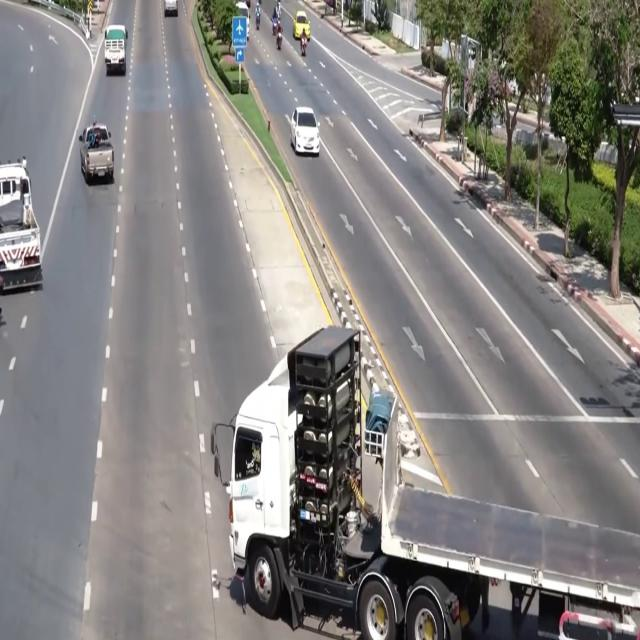car: (290, 107, 320, 156), (236, 0, 250, 39), (293, 10, 310, 39)
scooty: (301, 32, 306, 56), (276, 32, 282, 50), (272, 17, 276, 35), (256, 13, 260, 30)
truck: (210, 327, 639, 639), (0, 158, 42, 290), (79, 123, 114, 184), (104, 24, 127, 75), (163, 0, 178, 16)
